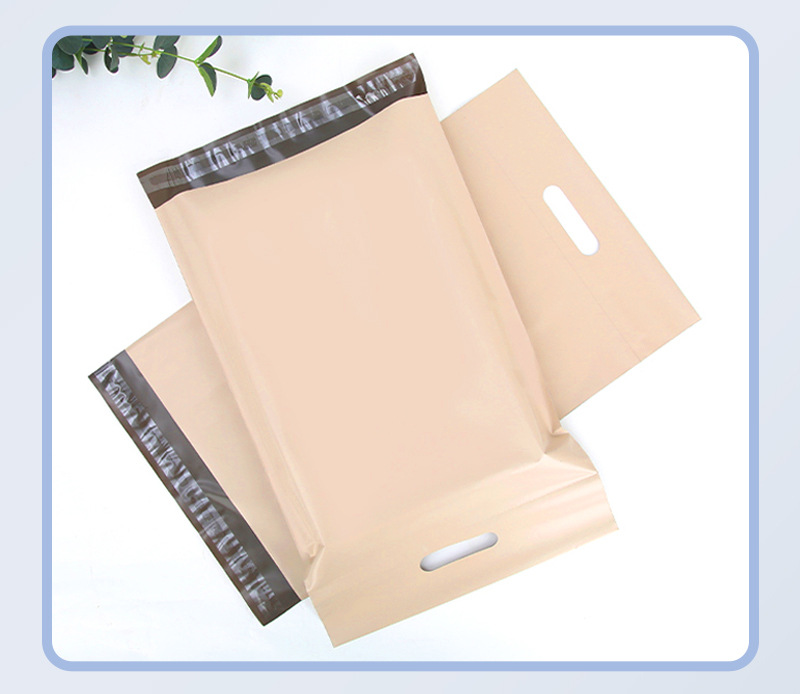塑料袋: (90, 54, 693, 646)
